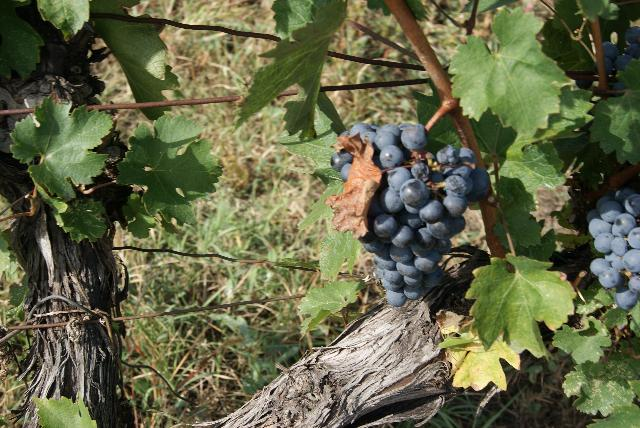grapes: (340, 122, 490, 306)
